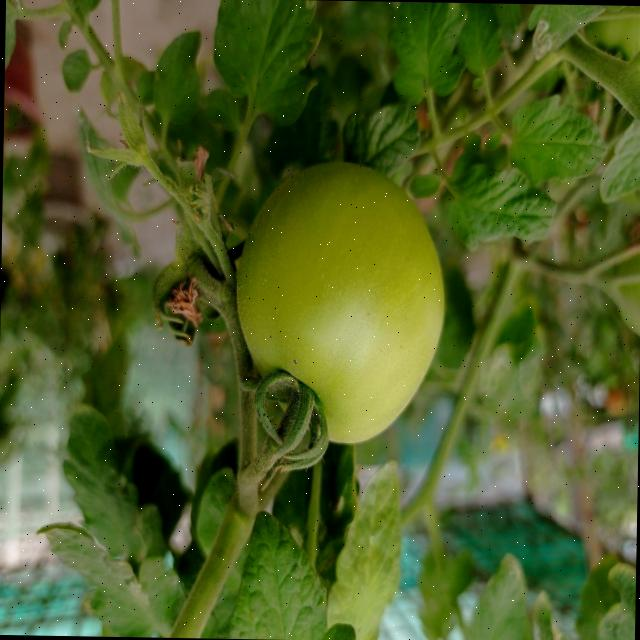Unripe: (232, 158, 449, 448)
